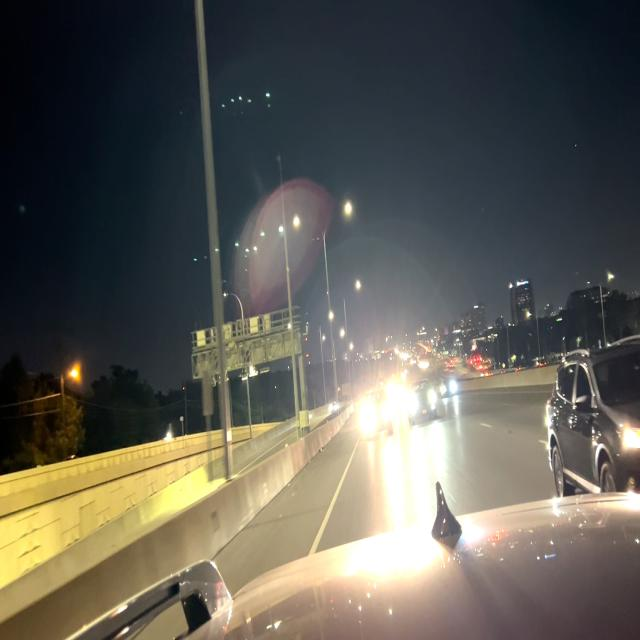back-of-sign: (191, 308, 303, 378)
